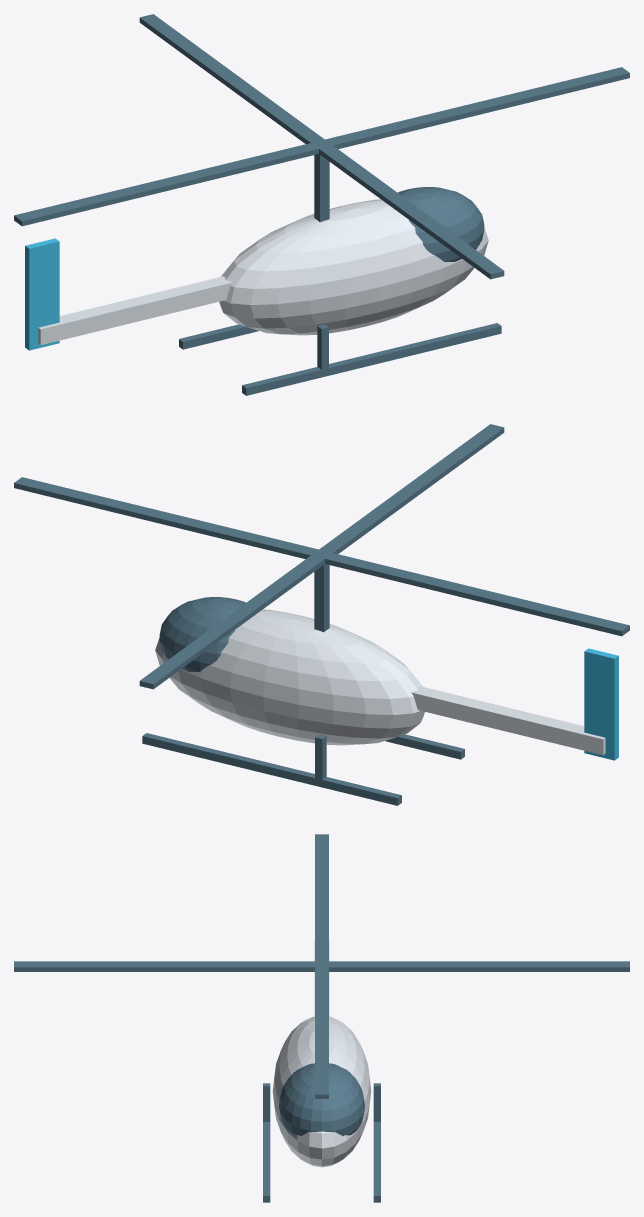
File: helicopter.gltf
3 views of the same model, one above another, from view 1: azimuth 30°, elevation 25°; view 2: azimuth 150°, elevation 25°; view 3: azimuth 270°, elevation 25° (orthographic). The views are drawn at different scales.
Bounding box in the file's own units: 10 × 3.15 × 10.
